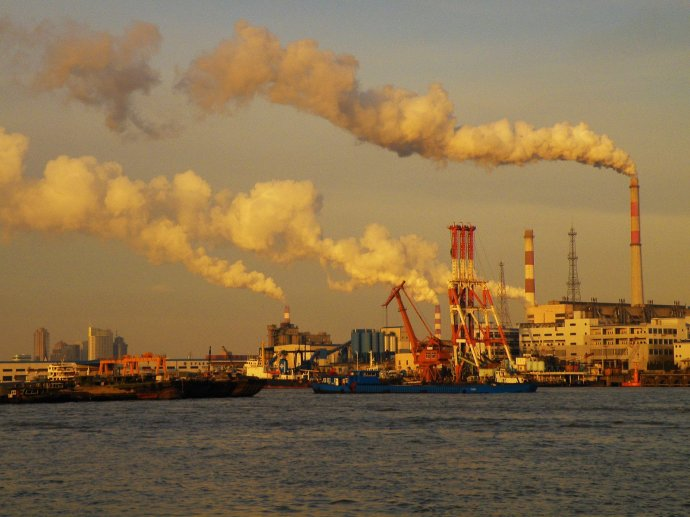dust: (34, 173, 306, 316), (406, 96, 654, 196), (317, 216, 546, 318)
